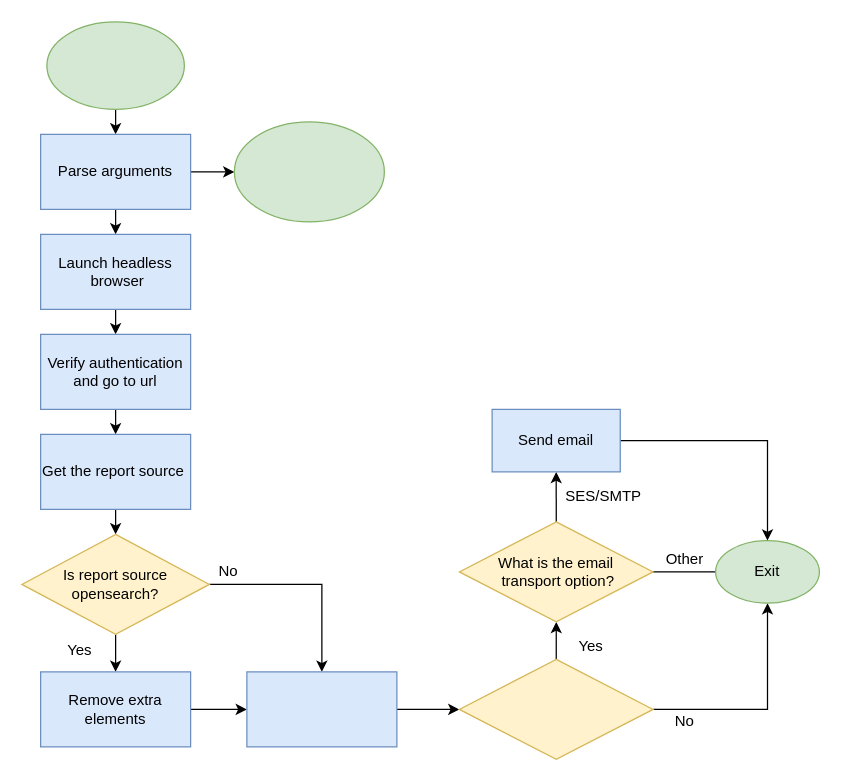
This 841x781 diagram has some shape labels left out. Each missing label, with the centre of its shape:
Are arguments set for sending email?: the point at 555,708
command execution: the point at 115,65
Return error if required argument is missing: the point at 308,171
Wait for page to load and generate PDF/PNG report: the point at 321,709
